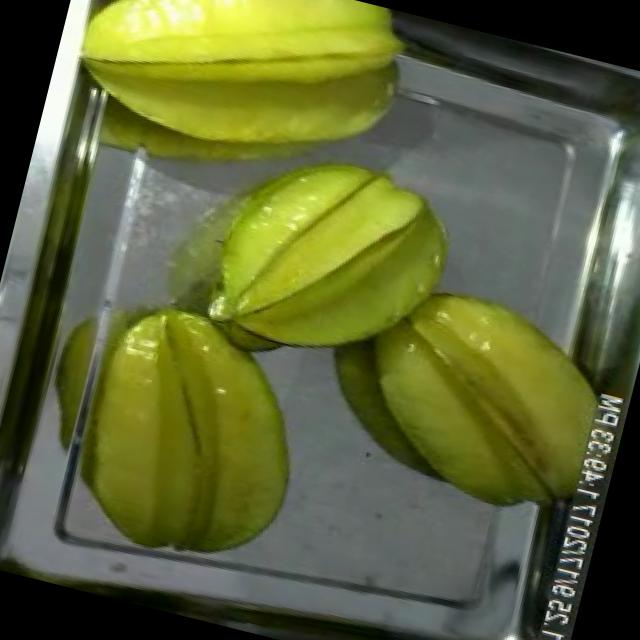fruit: (47, 278, 337, 591), (327, 257, 632, 537), (191, 122, 480, 394), (56, 0, 424, 198)
